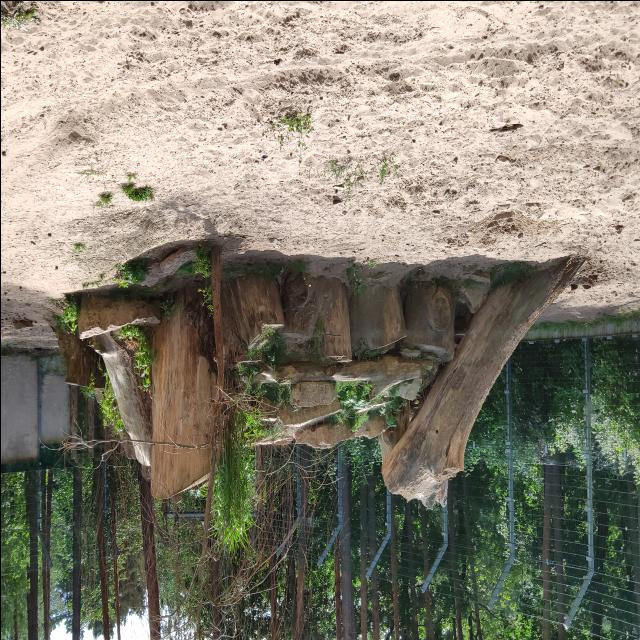restos de madeira: (386, 264, 580, 512), (150, 308, 212, 493), (93, 328, 152, 463), (392, 275, 454, 369), (218, 265, 280, 349), (340, 276, 405, 351), (276, 269, 322, 341), (316, 284, 352, 366), (60, 327, 102, 388), (264, 358, 338, 384)
